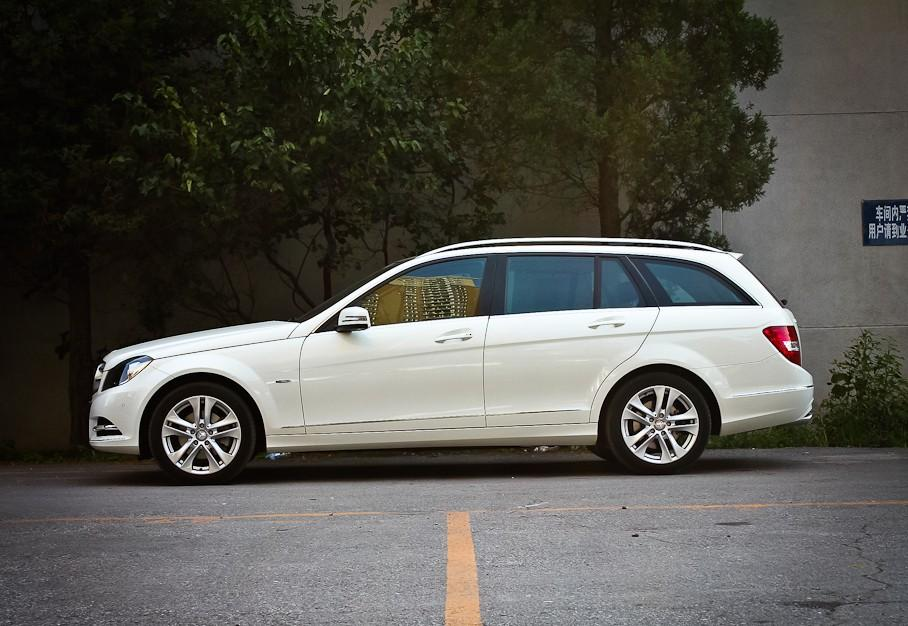Wagon: (87, 234, 817, 487)
